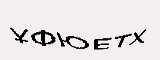Б: (100, 22, 117, 56)
Ж: (44, 22, 83, 60)
М: (20, 23, 46, 57)
О: (80, 23, 105, 58)
Я: (112, 23, 132, 50)
